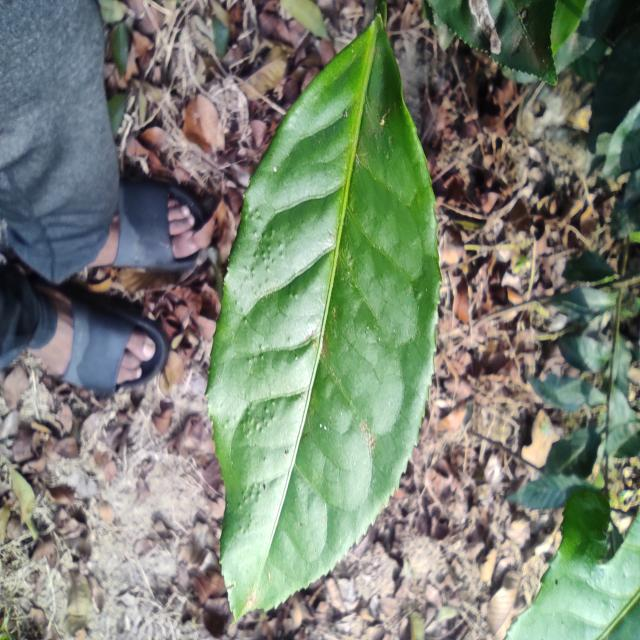Category D 7+ days, Not for Tea: (183, 11, 447, 631)
